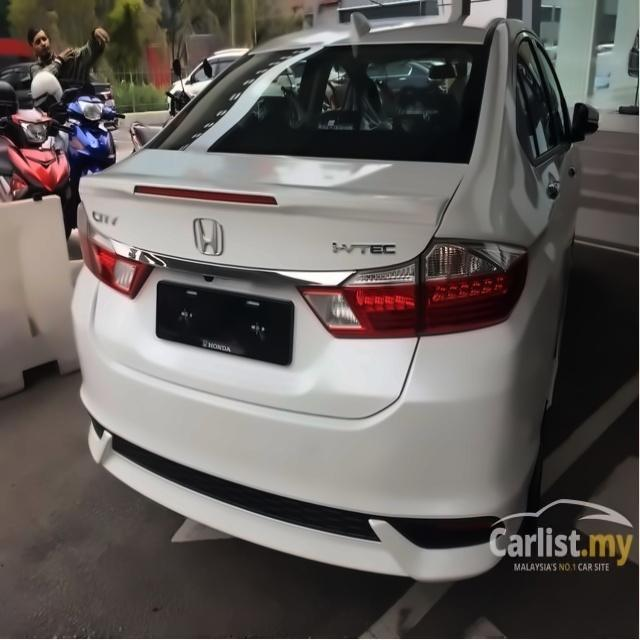Car boot: (84, 152, 469, 425)
Rear bumper: (67, 308, 549, 587)
Rear light - -L-: (76, 204, 155, 299)
Rear light - -R-: (292, 236, 532, 340)
Side mirror - -R-: (563, 100, 603, 142)
